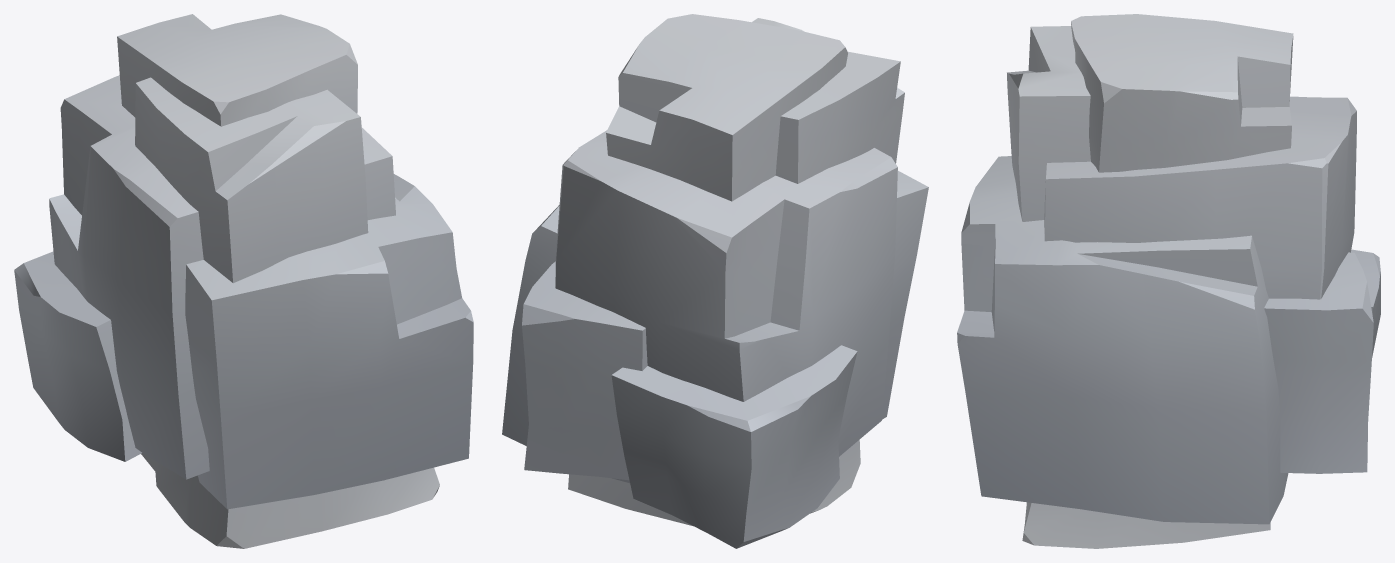
File: SM_Rock_1.fbx
The picture shows the model from 3 angles, left to right: view 1: azimuth 30°, elevation 25°; view 2: azimuth 150°, elevation 25°; view 3: azimuth 270°, elevation 25°; orthographic projection.
Visible parts, largest first — view 1: SM_Rock_1; view 2: SM_Rock_1; view 3: SM_Rock_1.
Part boxes in pixels (left/top/right/bottom): SM_Rock_1: left=14, top=14, right=473, bottom=548; SM_Rock_1: left=502, top=14, right=928, bottom=548; SM_Rock_1: left=957, top=14, right=1380, bottom=548.
Bounding box in the file's own units: 390 × 518 × 438.
